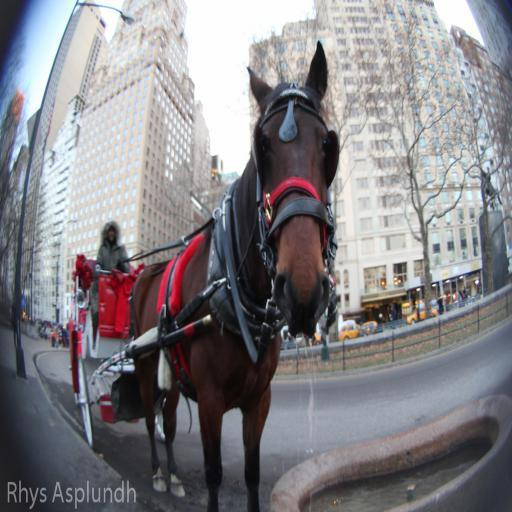horse: (127, 38, 339, 510)
